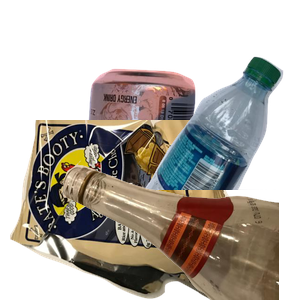glass: (60, 120, 300, 300)
metal: (82, 66, 270, 246)
plastic: (142, 54, 300, 234)
trash: (10, 120, 235, 300)
